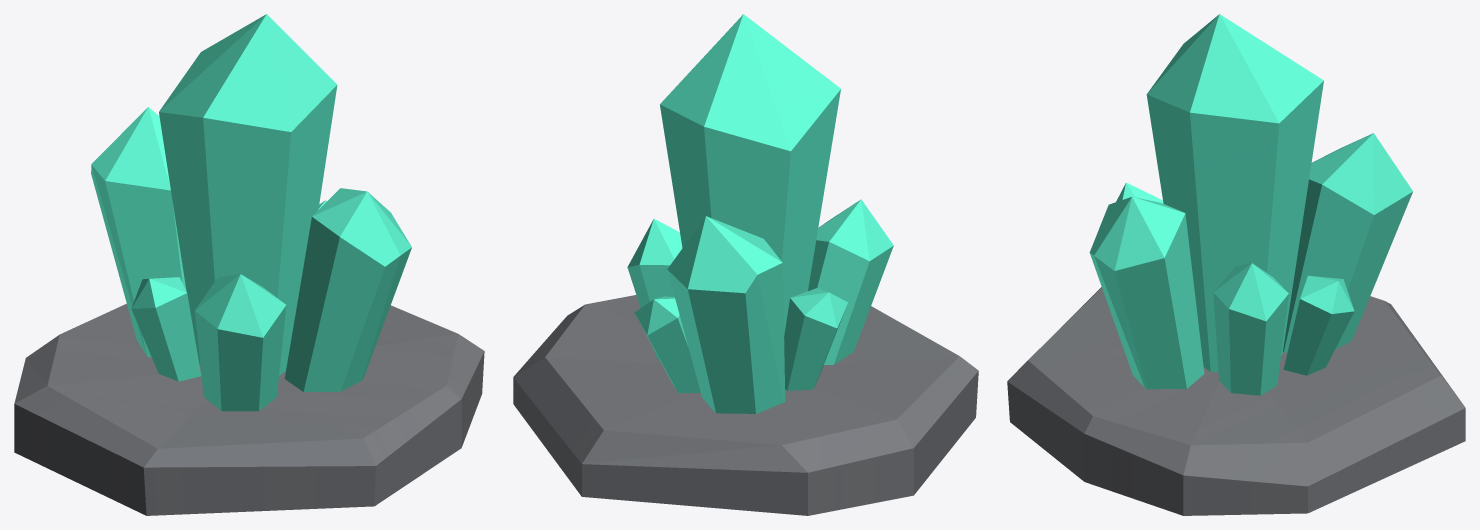
Rendered from crystal.glb.
3 renders of one model, left to right at view 1: azimuth 30°, elevation 25°; view 2: azimuth 150°, elevation 25°; view 3: azimuth 270°, elevation 25°, orthographic. The views are drawn at different scales.
Visible parts, largest first — view 1: crystal; view 2: crystal; view 3: crystal.
Boxes of the visible parts, x1=… form: crystal: x1=14, y1=14, x2=484, y2=515; crystal: x1=513, y1=14, x2=978, y2=515; crystal: x1=1007, y1=14, x2=1465, y2=515.
Size of the model in its own units: 0.3766 by 0.3611 by 0.3683.
Materials: 1 (1 with a texture image).
